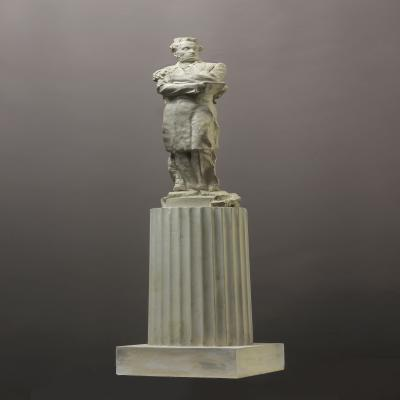sculpture: (115, 37, 280, 378)
